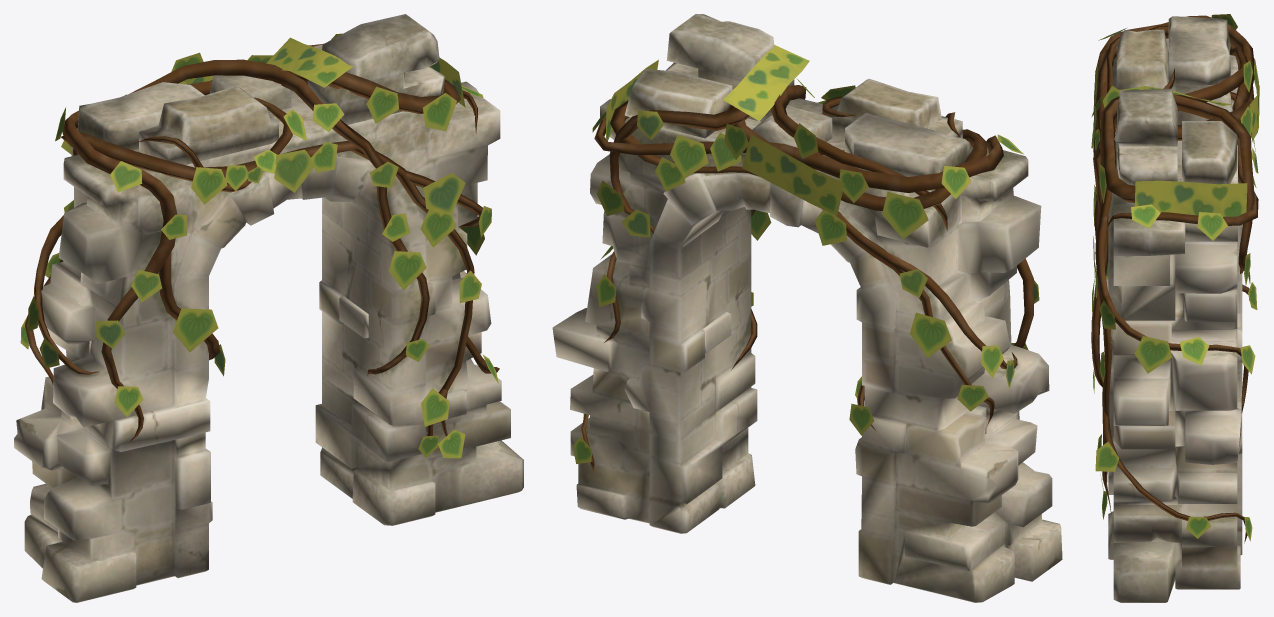
The model's file is ruins-arch.glb.
The picture shows the model from 3 angles, left to right: view 1: azimuth 30°, elevation 25°; view 2: azimuth 150°, elevation 25°; view 3: azimuth 270°, elevation 25°; orthographic projection. The views are drawn at different scales.
Visible parts, largest first — view 1: Scene; view 2: Scene; view 3: Scene.
Part boxes in pixels (<box>): Scene: <box>14,14,523,602</box>; Scene: <box>552,14,1062,602</box>; Scene: <box>1091,14,1259,602</box>.
Size of the model in its own units: 29.05 by 29.09 by 9.94.
Materials: 1 (1 with a texture image).
